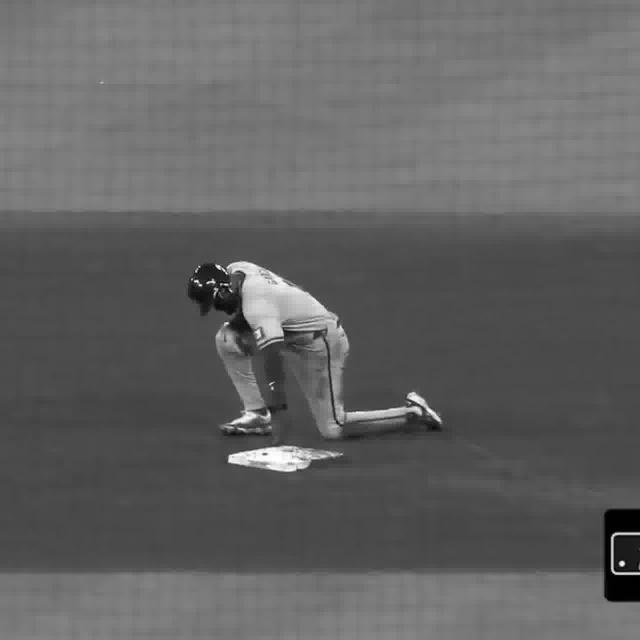shoe: (227, 448, 342, 472), (223, 412, 272, 439), (410, 393, 443, 433)
